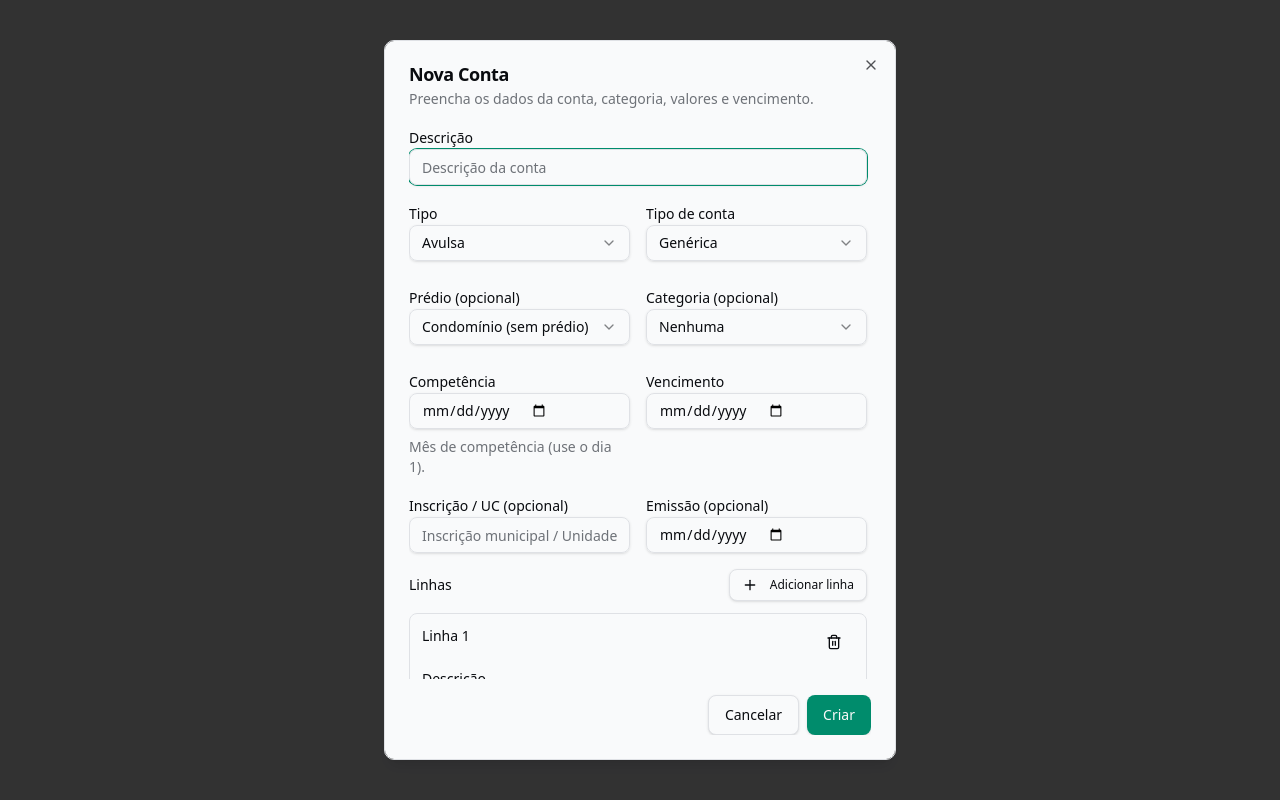
Scenario: BillFormModal › blocks submission with validation messages when required fields are empty
Click the button "Criar".
click(839, 715)  # box [807,695,871,735]
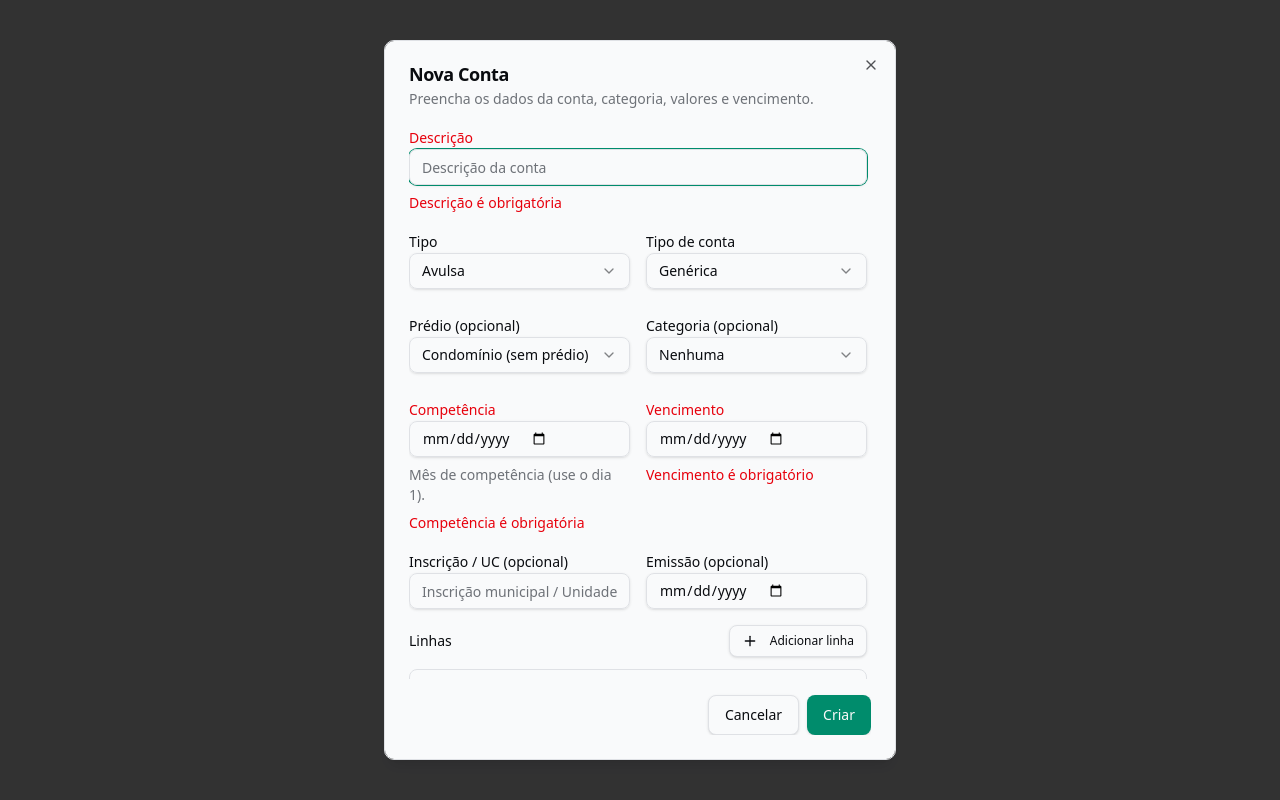
Expected: the text "Descrição é obrigatória" is shown, [409,193,562,212]
